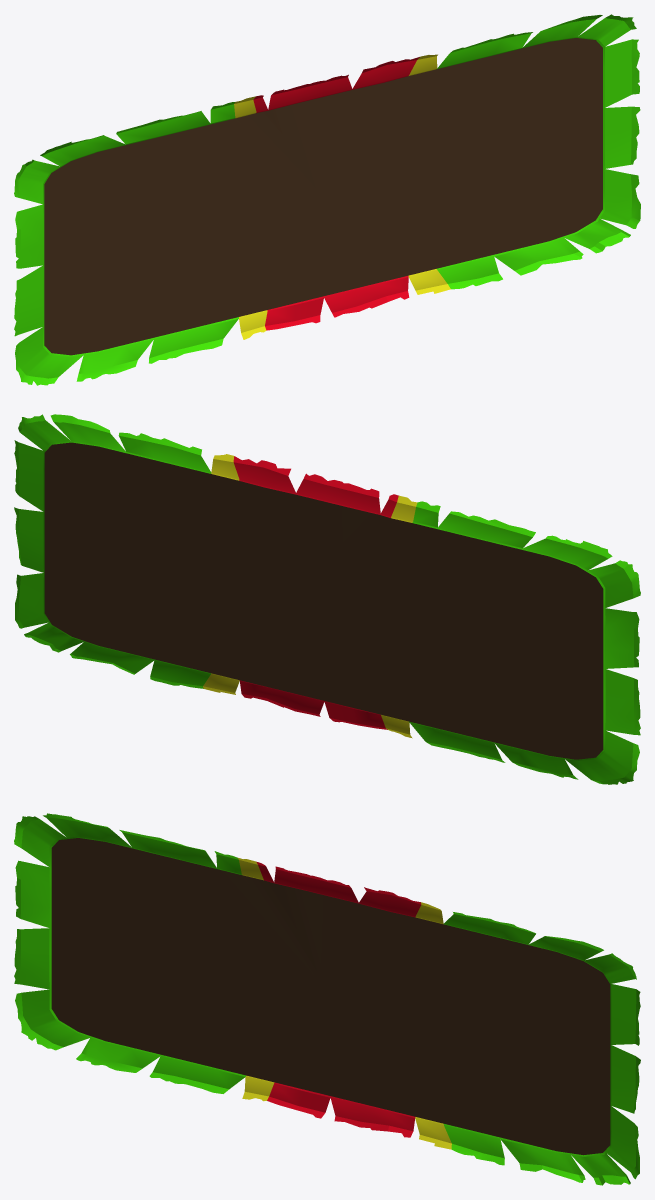
Rendered from PaperRip.fbx.
The picture shows the model from 3 angles, top to bottom: view 1: azimuth 30°, elevation 25°; view 2: azimuth 150°, elevation 25°; view 3: azimuth 330°, elevation 25°; orthographic projection.
Visible parts, largest first — view 1: Cube.002; view 2: Cube.002; view 3: Cube.002.
Boxes of the visible parts, x1,y1,x2,y2 form: Cube.002: (14,14,640,385); Cube.002: (14,414,640,784); Cube.002: (14,813,640,1185).
Size of the model in its own units: 269 by 101 by 3.69.
